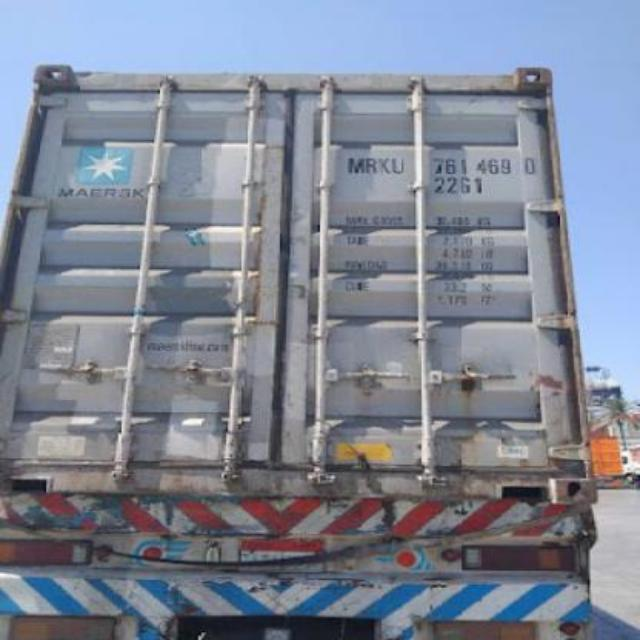0: (524, 157, 538, 175)
1: (458, 156, 468, 174)
4: (476, 157, 488, 175)
6: (488, 157, 500, 175), (446, 156, 458, 174)
7: (431, 156, 444, 174)
9: (502, 157, 512, 173)
K: (378, 157, 394, 175)
M: (346, 156, 366, 174)
R: (364, 154, 378, 176)
U: (392, 156, 406, 174)
